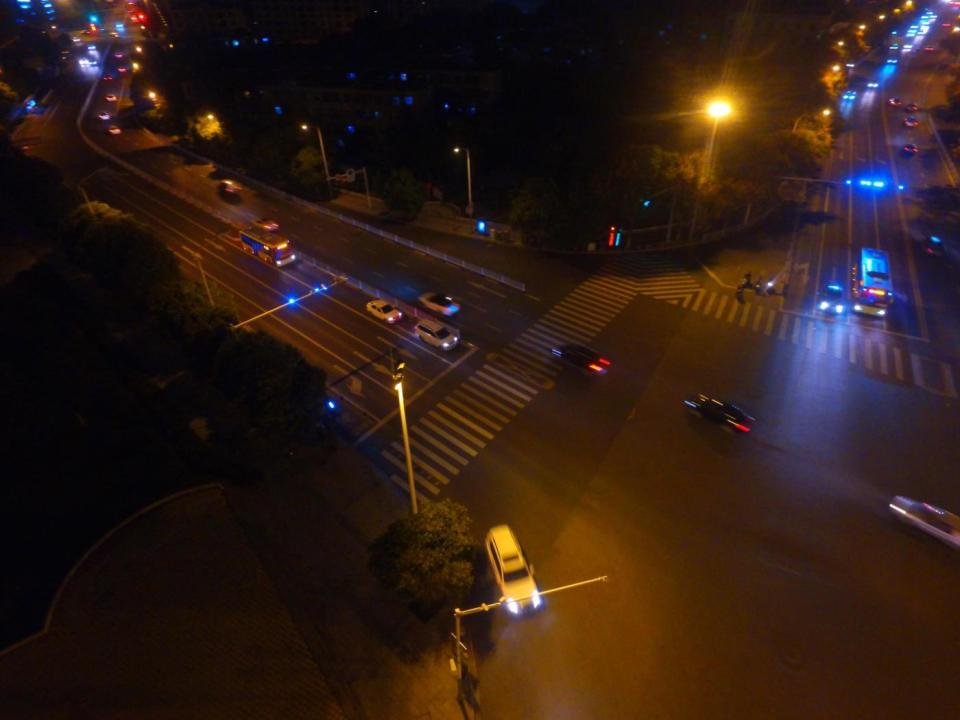bus: (850, 245, 893, 317), (242, 224, 295, 268)
car: (481, 524, 541, 613), (888, 491, 960, 550), (686, 390, 754, 437), (551, 339, 612, 378), (412, 319, 456, 350), (419, 288, 458, 315), (368, 298, 403, 326), (821, 283, 845, 314), (927, 236, 945, 261), (252, 218, 279, 232), (218, 178, 240, 194), (843, 88, 858, 101), (905, 143, 917, 155), (86, 40, 97, 52), (867, 78, 879, 89), (904, 116, 917, 126), (99, 109, 110, 120), (906, 101, 917, 112), (890, 97, 900, 109), (108, 126, 121, 135), (88, 57, 98, 68), (113, 50, 123, 60), (106, 94, 117, 103), (101, 74, 112, 82), (77, 57, 88, 65), (902, 44, 913, 52), (888, 40, 899, 48), (886, 57, 898, 64), (924, 43, 933, 52), (117, 66, 128, 73), (71, 37, 80, 43), (78, 30, 89, 34)
